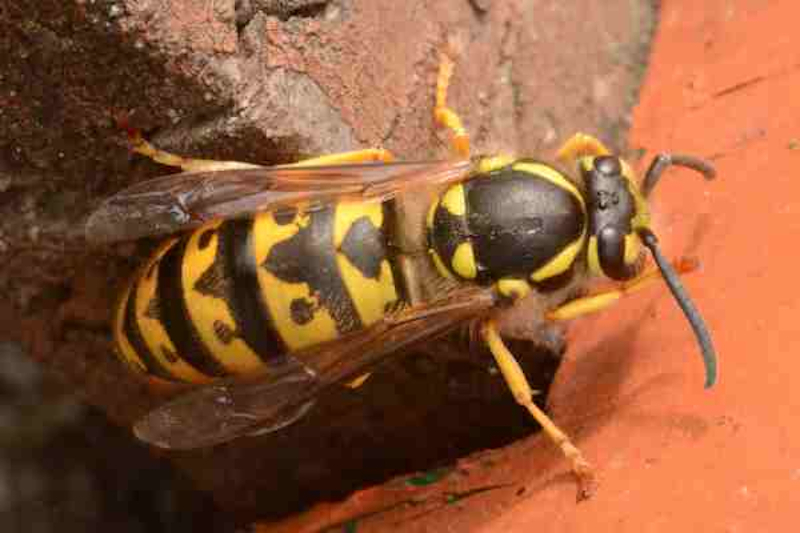chax: (87, 36, 731, 510)
